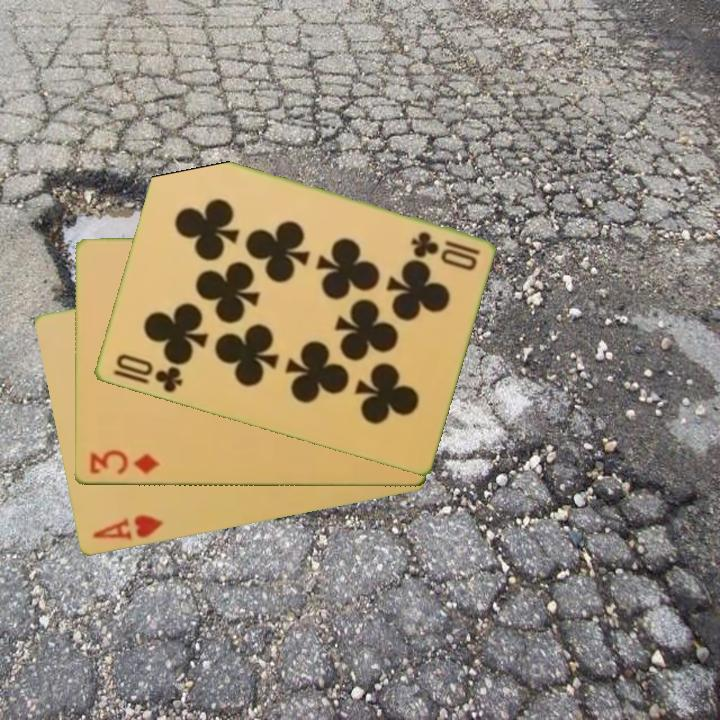10c: (109, 350, 185, 396), (406, 228, 482, 273)
3d: (86, 447, 163, 477)
Ah: (89, 512, 166, 544)
